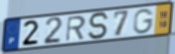2: (44, 16, 64, 46), (22, 19, 42, 47)
7: (113, 9, 130, 38)
G: (133, 8, 155, 35)
R: (64, 15, 87, 43)
S: (88, 11, 111, 41)
